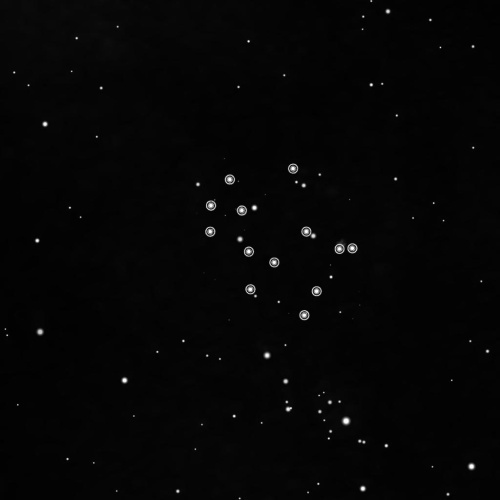gemini: (197, 156, 364, 328)
